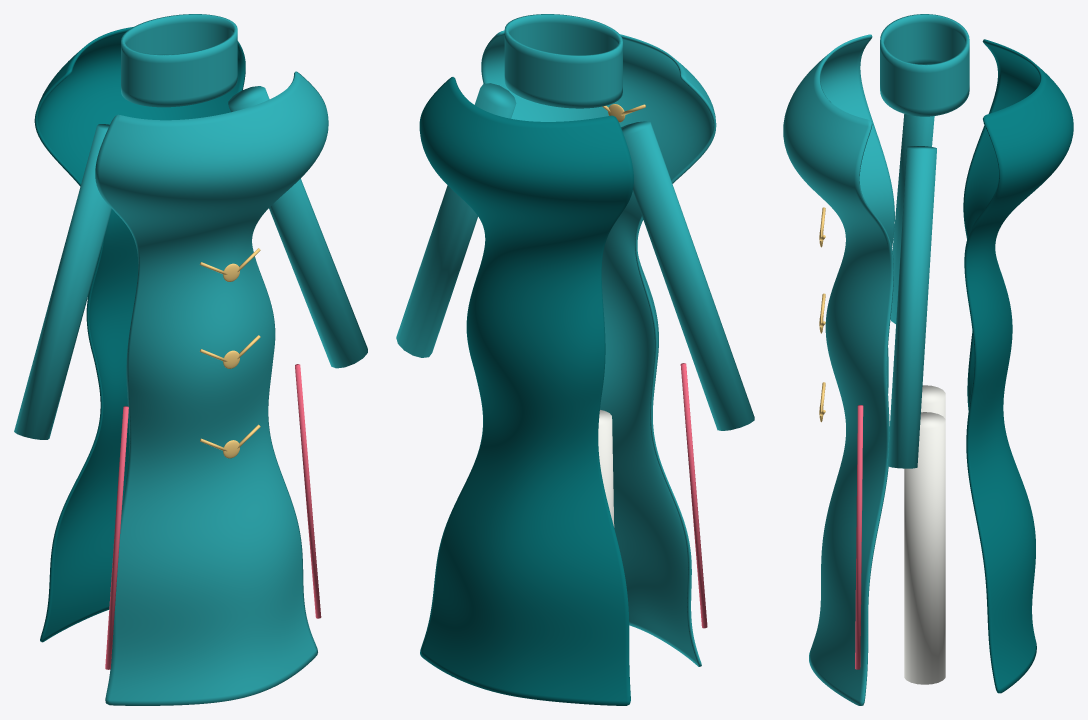
The model's file is BL_AODAI_005.glb.
3 renders of one model, left to right at view 1: azimuth 30°, elevation 25°; view 2: azimuth 150°, elevation 25°; view 3: azimuth 270°, elevation 25°, orthographic. The views are drawn at different scales.
Parts seen in each view (by area): view 1: front ao dai panel, back ao dai panel, silk sleeve, structured high collar, silk sleeve.001, side slit piping, side slit piping.002; view 2: back ao dai panel, front ao dai panel, silk sleeve, structured high collar, silk sleeve.001, side slit piping, ivory trouser leg; view 3: front ao dai panel, back ao dai panel, ivory trouser leg.001, silk sleeve.001, structured high collar, silk sleeve, side slit piping.002, ivory trouser leg.
Boxes of the visible parts, x1,y1,x2,y2 form: front ao dai panel: (95,71,328,705); back ao dai panel: (34,27,245,642); silk sleeve: (14,124,111,439); structured high collar: (121,14,237,107); silk sleeve.001: (228,86,367,368); side slit piping: (105,406,128,669); side slit piping.002: (295,364,321,618); back ao dai panel: (419,77,633,705); front ao dai panel: (481,30,716,666); silk sleeve: (621,121,754,430); structured high collar: (504,14,622,108); silk sleeve.001: (396,83,516,357); side slit piping: (680,363,707,628); ivory trouser leg: (598,410,614,527); front ao dai panel: (783,34,894,705); back ao dai panel: (963,39,1073,693); ivory trouser leg.001: (904,412,945,684); silk sleeve.001: (887,146,936,468); structured high collar: (880,14,969,116); silk sleeve: (890,114,934,323); side slit piping.002: (855,405,863,669); ivory trouser leg: (921,385,945,418).
Size of the model in its own units: 1.44 by 2.45 by 1.04.
